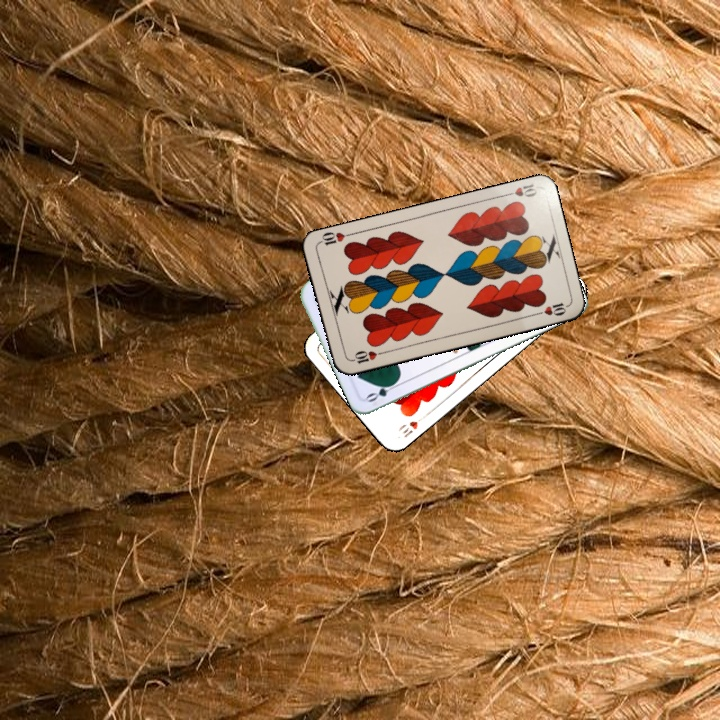GO: (363, 377, 402, 405)
H10: (394, 411, 429, 440), (499, 180, 540, 200), (346, 347, 386, 367)
